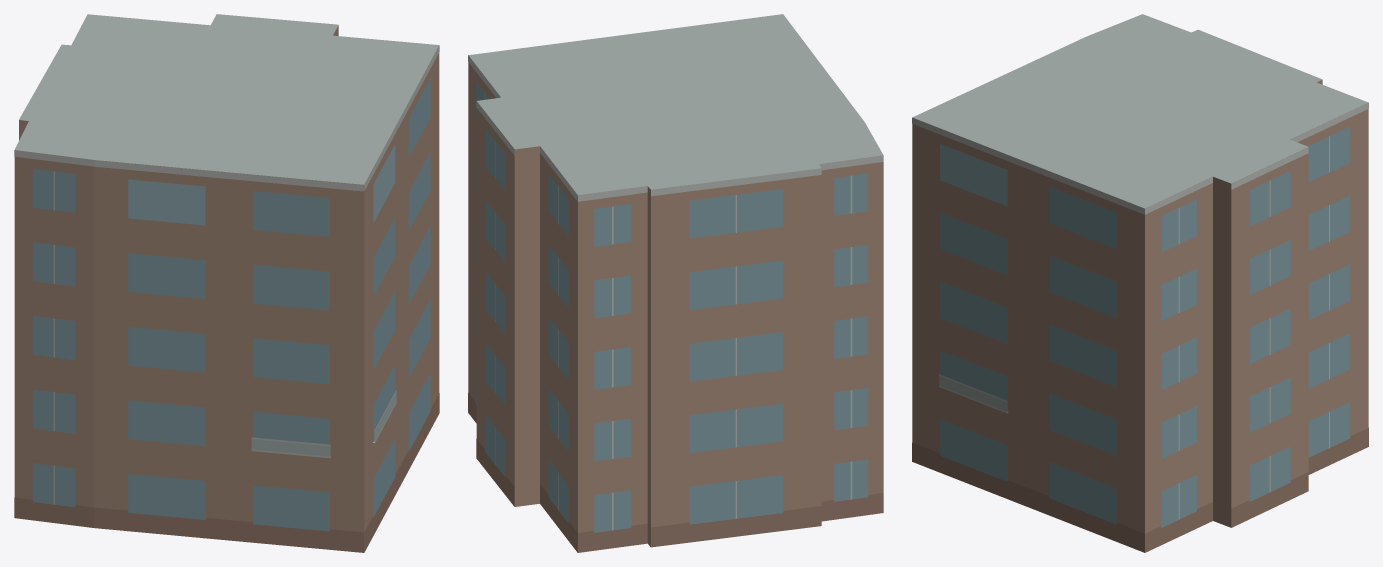
Rendered from survey-upis-32780865.glb.
3 renders of one model, left to right at view 1: azimuth 30°, elevation 25°; view 2: azimuth 150°, elevation 25°; view 3: azimuth 270°, elevation 25°, orthographic. The views are drawn at different scales.
Visible parts, largest first — view 1: survey-upis-32780865.tmp; view 2: survey-upis-32780865.tmp; view 3: survey-upis-32780865.tmp.
Part boxes in pixels (x1,y1,x2,y2): survey-upis-32780865.tmp: [14, 14, 439, 552]; survey-upis-32780865.tmp: [468, 14, 883, 552]; survey-upis-32780865.tmp: [912, 14, 1368, 552].
Bounding box in the file's own units: 16.25 × 13.4 × 16.11.
